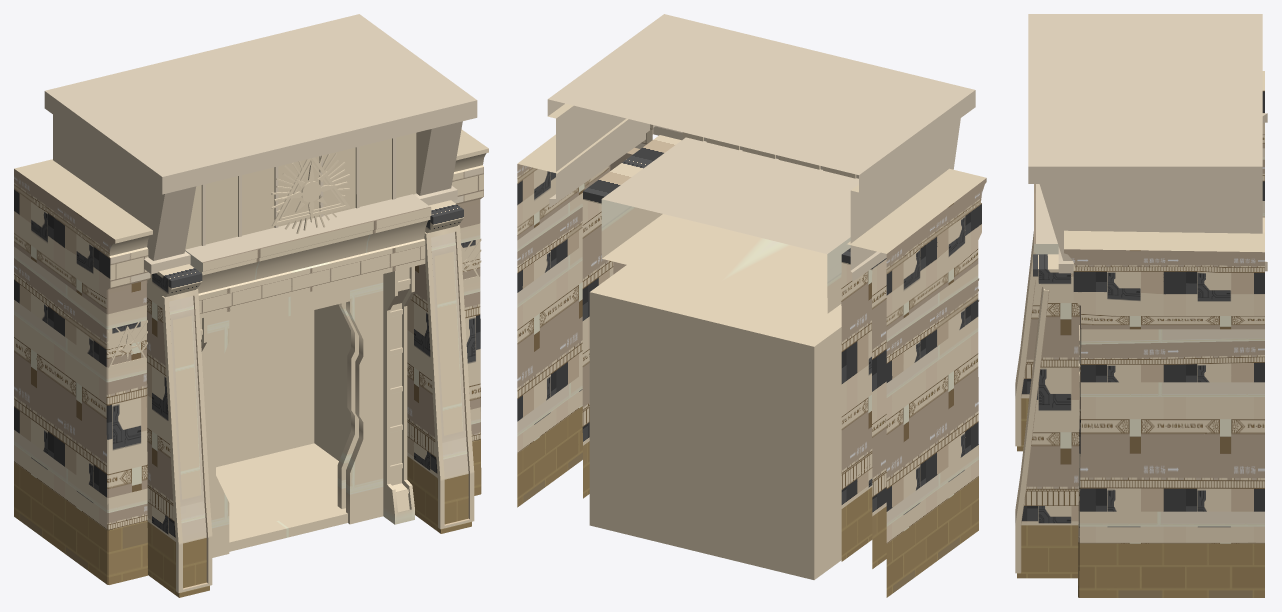
Rendered from Room2.fbx.
The picture shows the model from 3 angles, left to right: view 1: azimuth 30°, elevation 25°; view 2: azimuth 150°, elevation 25°; view 3: azimuth 270°, elevation 25°; orthographic projection.
Parts seen in each view (by area): view 1: column2_1; view 2: column2_1; view 3: column2_1.
Part boxes in pixels (x1,y1,x2,y2): column2_1: (14, 14, 488, 597); column2_1: (517, 14, 986, 597); column2_1: (1015, 14, 1267, 597).
Size of the model in its own units: 2.16 by 2.33 by 1.27.
